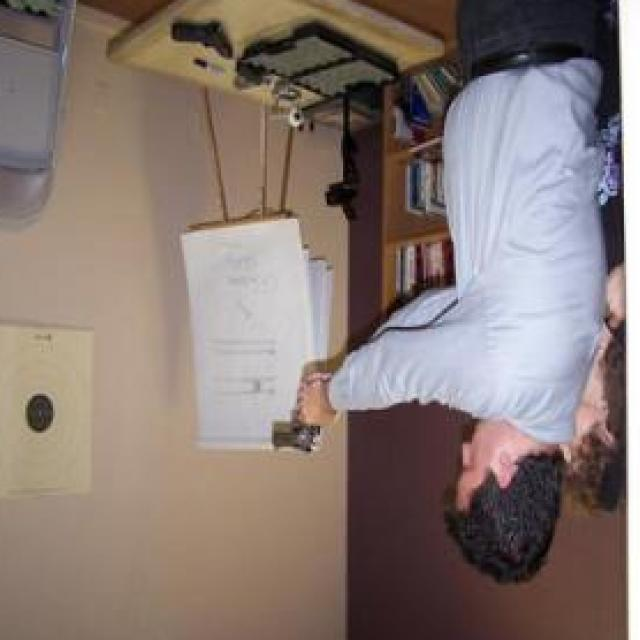pistol: (272, 386, 324, 458)
